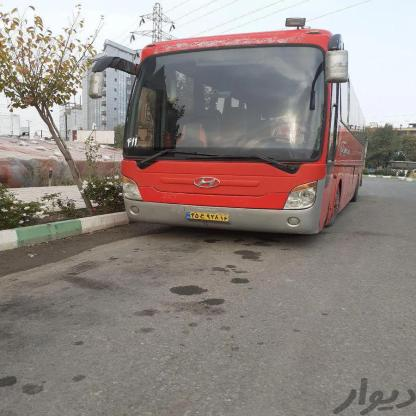Bus: (90, 16, 378, 242)
